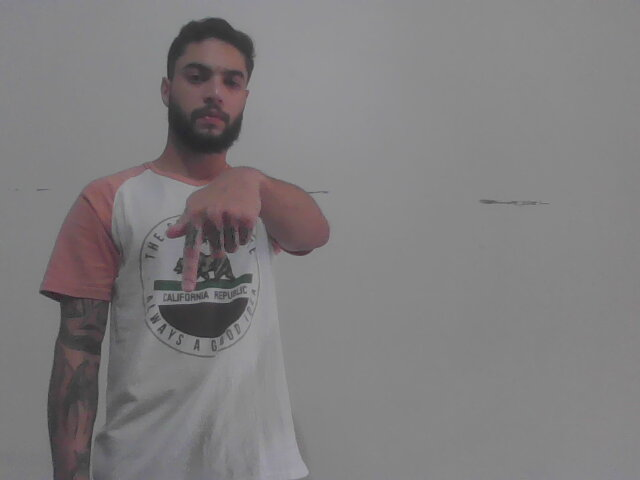q: (166, 161, 267, 301)
